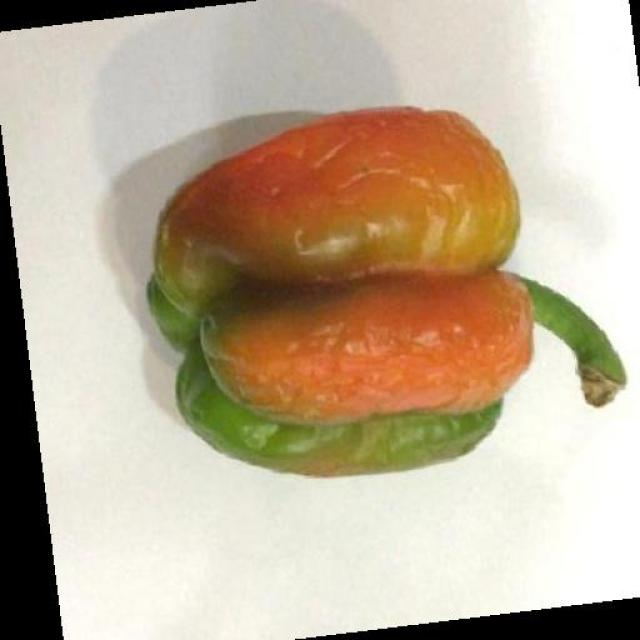Stale_Capsicum: (160, 108, 586, 460)
